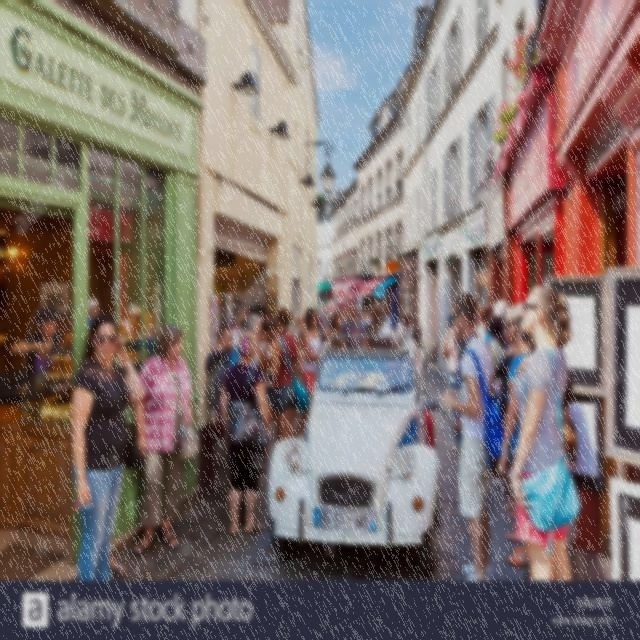pessoa: (509, 284, 582, 582), (72, 312, 146, 583), (441, 290, 498, 583), (132, 322, 202, 558), (219, 330, 271, 540), (477, 298, 526, 470), (503, 310, 536, 544), (452, 314, 487, 504), (293, 306, 334, 444), (270, 306, 306, 442), (528, 330, 574, 430), (10, 306, 67, 380), (204, 324, 235, 438), (259, 320, 281, 474), (328, 358, 411, 391), (443, 298, 458, 454), (484, 316, 512, 399), (290, 311, 309, 419), (228, 313, 264, 369), (341, 301, 368, 350), (357, 300, 392, 335), (121, 300, 155, 336), (96, 544, 130, 580), (374, 360, 412, 392), (229, 301, 250, 354), (443, 324, 459, 392), (316, 306, 334, 346), (256, 320, 270, 355), (408, 314, 422, 349), (400, 314, 414, 348), (88, 296, 101, 330), (328, 310, 342, 340), (248, 302, 270, 318), (328, 310, 342, 334), (362, 308, 373, 334), (338, 308, 350, 330), (395, 314, 405, 336)
